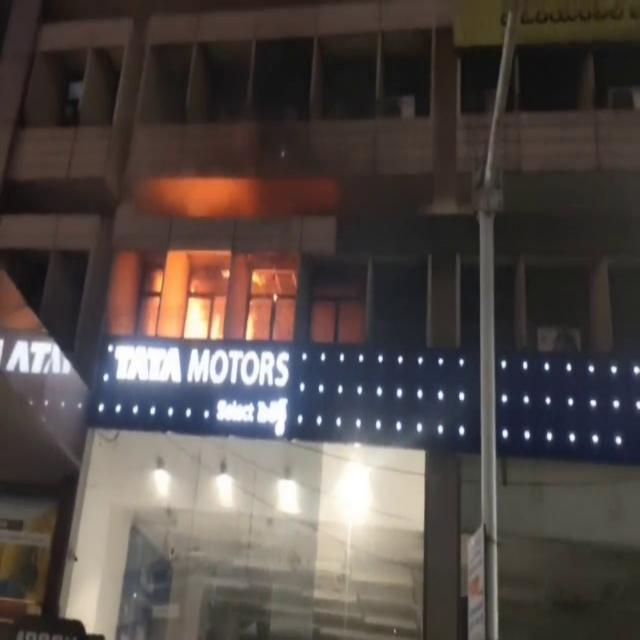Fire: (182, 282, 226, 344), (243, 302, 293, 345)
